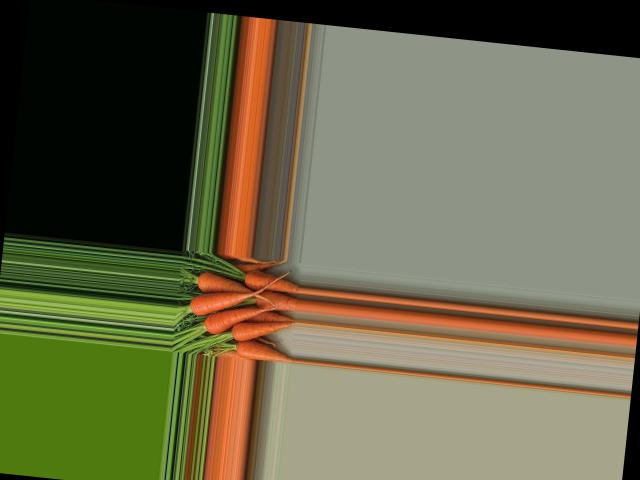carrot: (233, 345, 293, 361)
